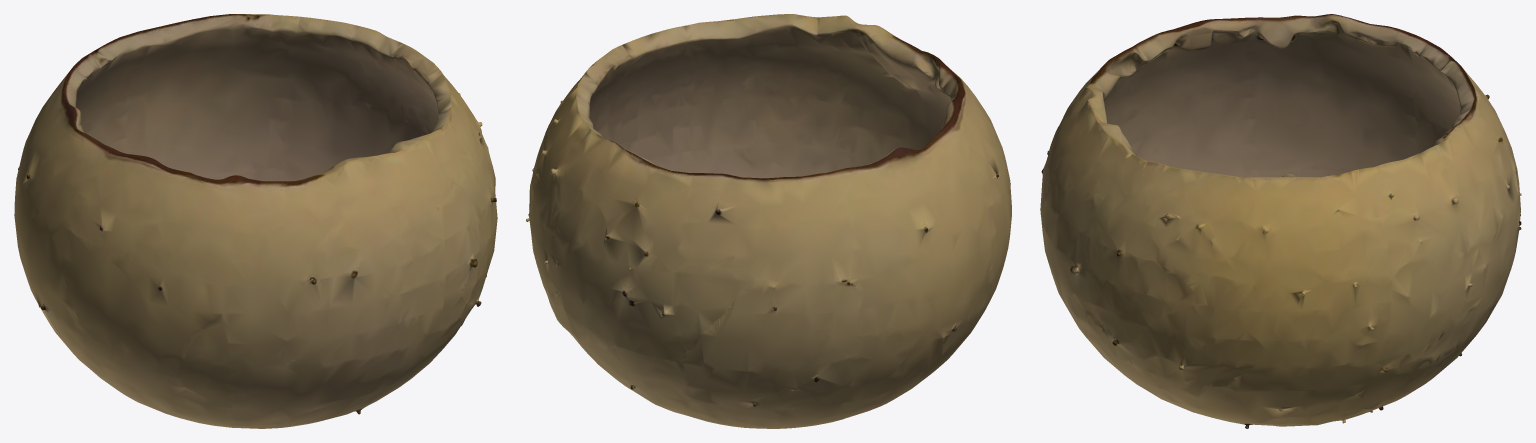
The model's file is jicara.glb.
3 views of the same model, side by side, from view 1: azimuth 30°, elevation 25°; view 2: azimuth 150°, elevation 25°; view 3: azimuth 270°, elevation 25° (orthographic).
Visible parts, largest first — view 1: tripo_node_71f21819-6e21-4765-ad0a-d2b023eacb39; view 2: tripo_node_71f21819-6e21-4765-ad0a-d2b023eacb39; view 3: tripo_node_71f21819-6e21-4765-ad0a-d2b023eacb39.
Boxes of the visible parts, box(x1,y1,x2,y2) form: tripo_node_71f21819-6e21-4765-ad0a-d2b023eacb39: box(14, 14, 497, 428); tripo_node_71f21819-6e21-4765-ad0a-d2b023eacb39: box(526, 14, 1011, 428); tripo_node_71f21819-6e21-4765-ad0a-d2b023eacb39: box(1040, 14, 1521, 428).
Size of the model in its own units: 0.9963 by 0.6827 by 0.9966.
Materials: 1 (1 with a texture image).
